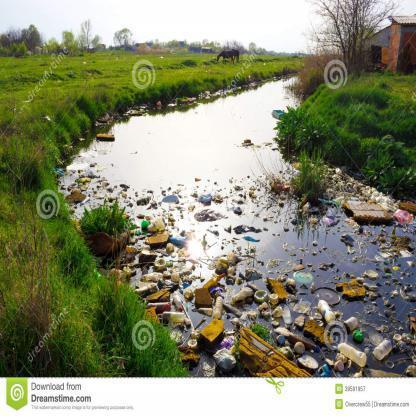Plastic: (337, 341, 370, 367), (374, 333, 396, 360), (218, 345, 238, 371), (212, 291, 224, 318)
